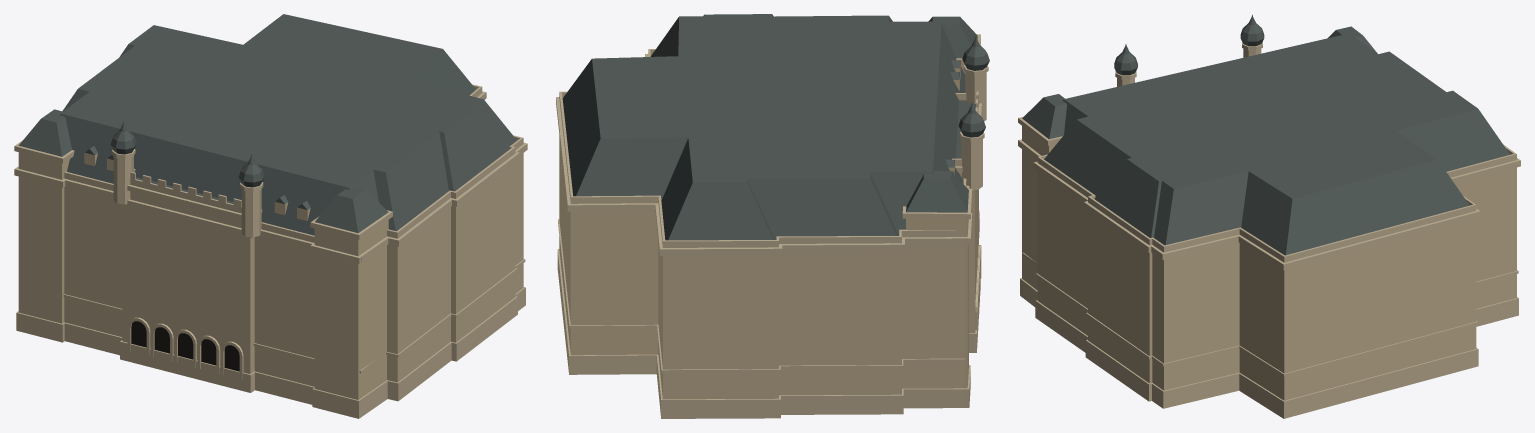
File: vigado.glb
3 views of the same model, side by side, from view 1: azimuth 30°, elevation 25°; view 2: azimuth 150°, elevation 25°; view 3: azimuth 270°, elevation 25° (orthographic). The views are drawn at different scales.
Parts seen in each view (by area): view 1: vigado; view 2: vigado; view 3: vigado.
Part boxes in pixels (x1,y1,x2,y2): vigado: (14,14,527,418); vigado: (556,14,989,418); vigado: (1018,14,1520,418).
Size of the model in its own units: 73.4 by 38.48 by 76.85.
